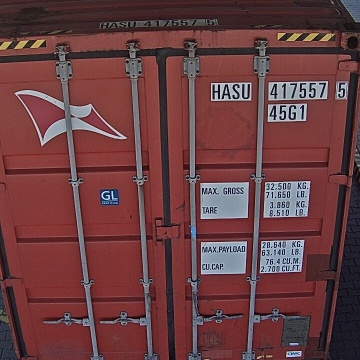serial_id: (212, 82, 347, 99)
